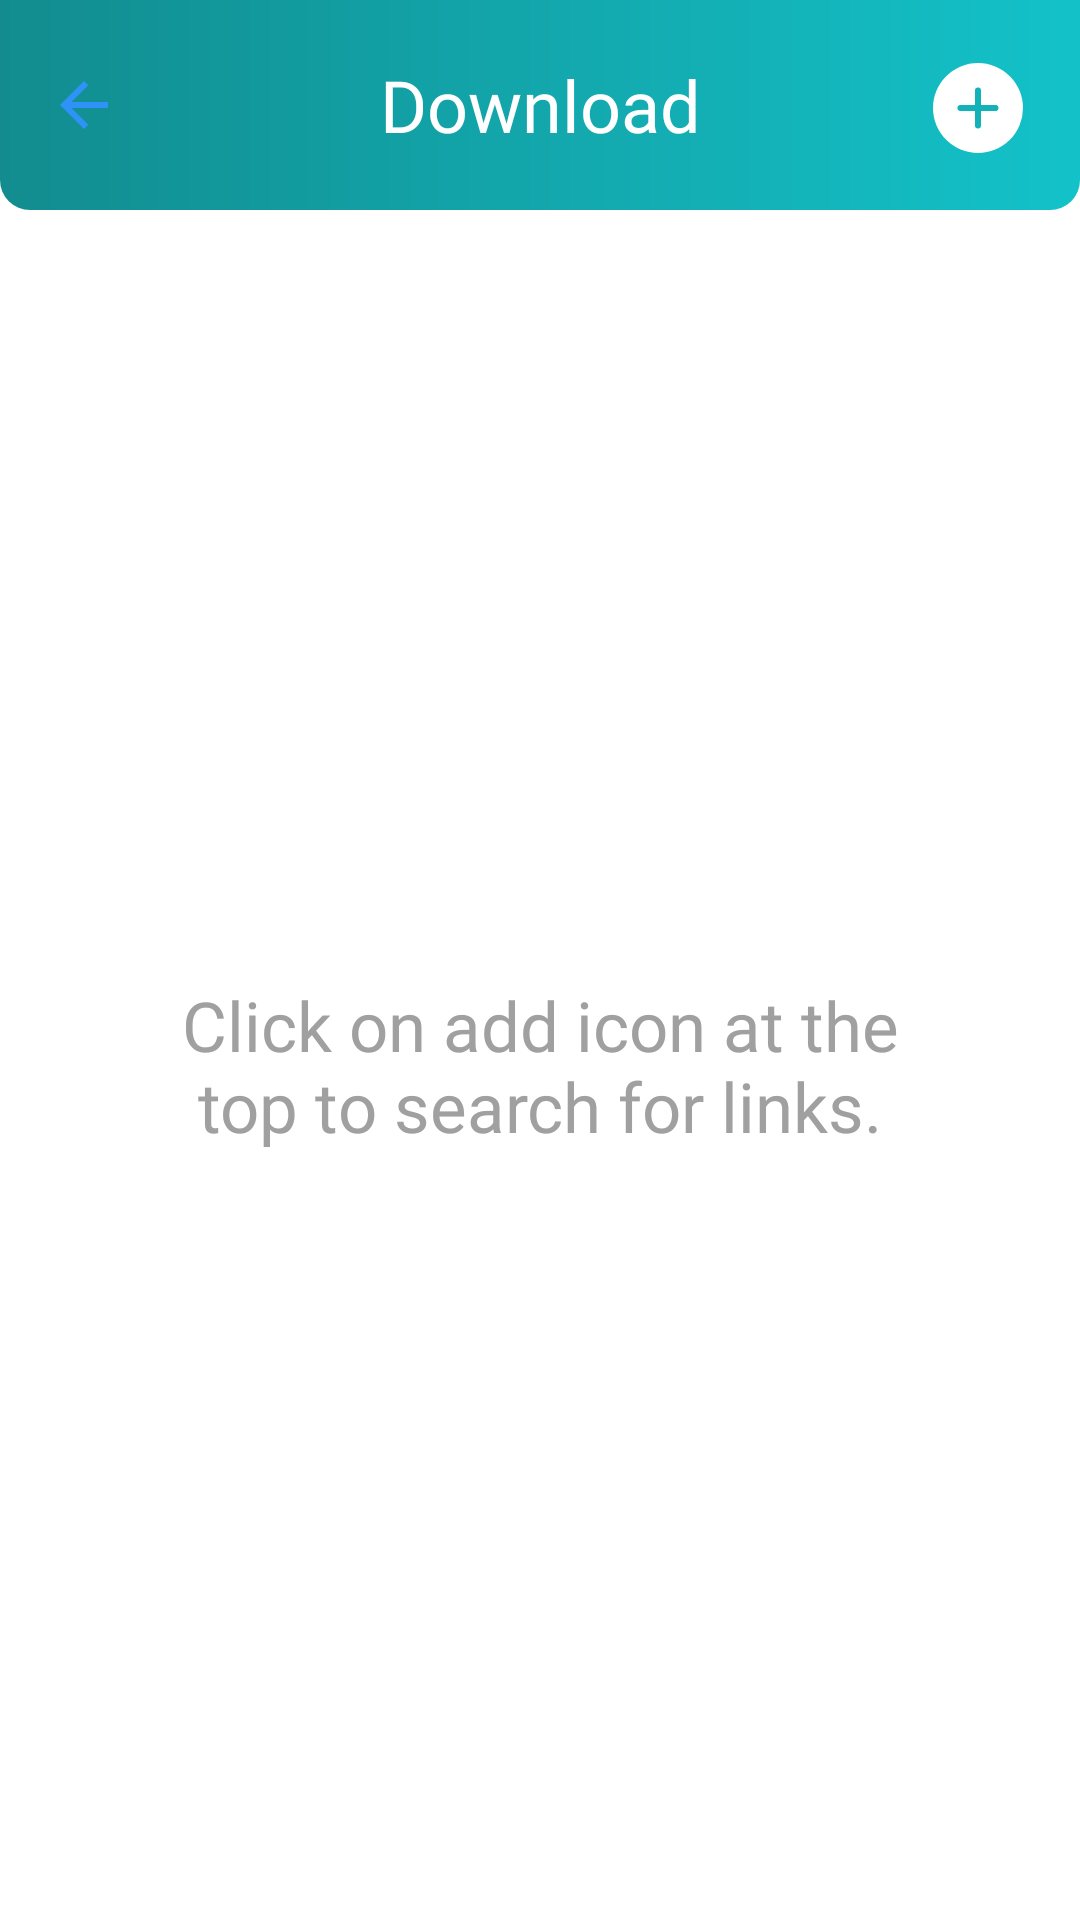

Locate icon controls on the screen. Image size 1080px×1920px, boxes as {"left": x1, "top": y1, "right": x2, "bottom": y2}.
add: {"left": 933, "top": 63, "right": 1023, "bottom": 153}
arrow back: {"left": 60, "top": 81, "right": 108, "bottom": 129}
